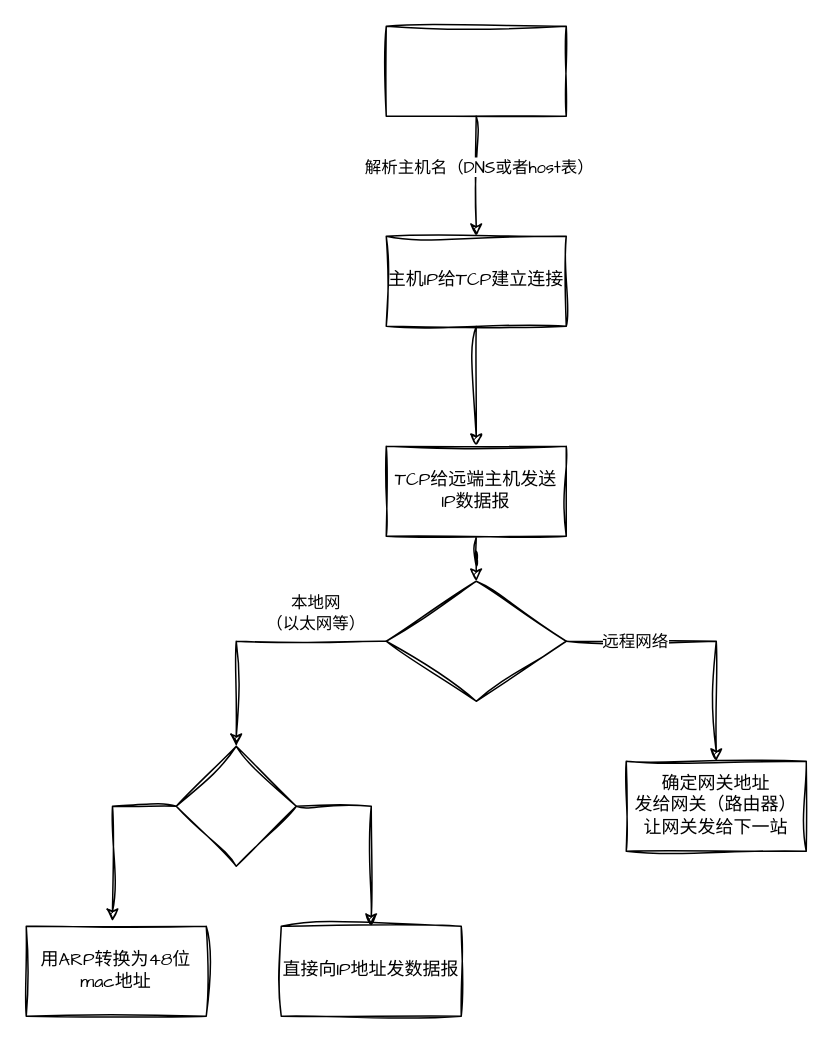
Image size: 833x1043. Some labels were removed from this diagram. The centre of each missing label's shape, as x and y in pixels:
"FTP请求" belongs at [475,70].
"是以太网？" belongs at [235,805].
"远端主机在？" belongs at [475,640].
